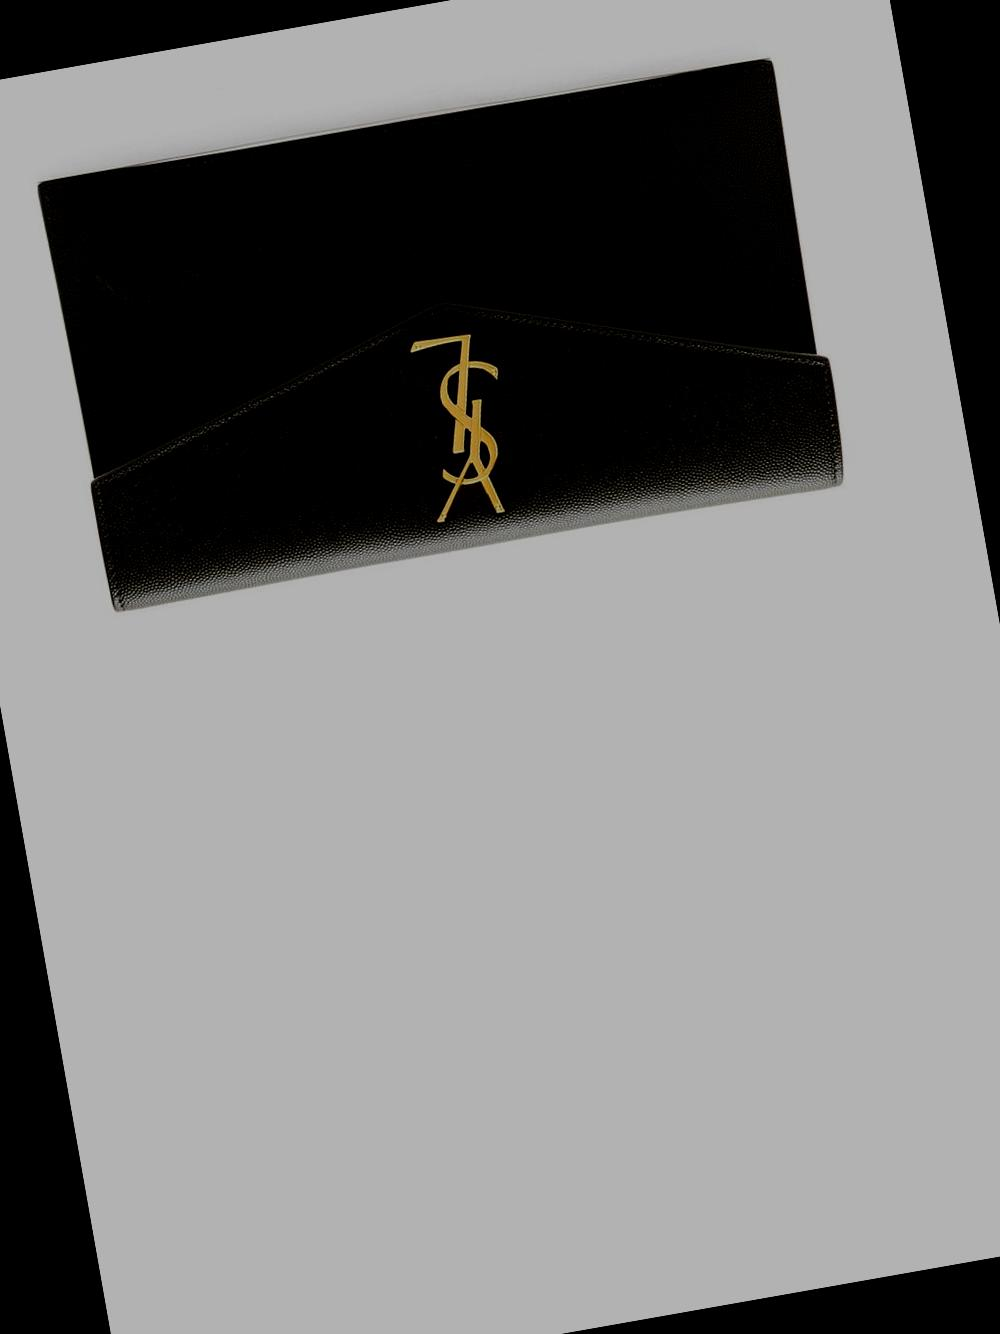YVES-SAINT-LAURENT: (405, 324, 521, 522)
